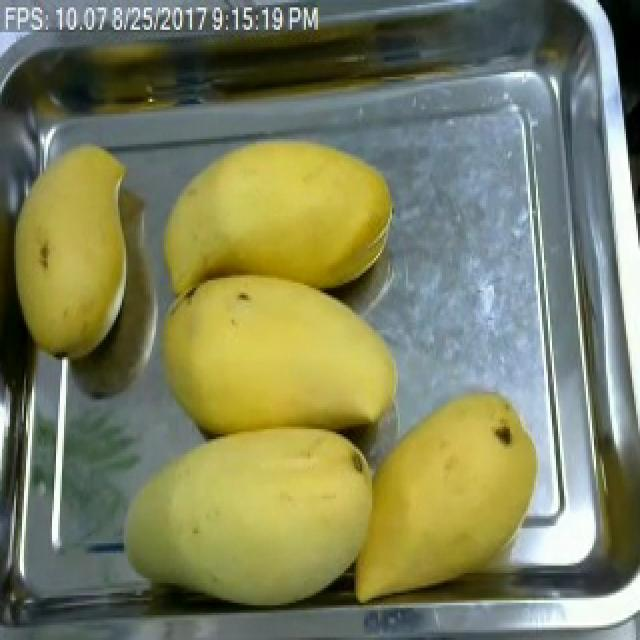fruit: (316, 372, 558, 610), (112, 414, 384, 615), (148, 260, 412, 447), (148, 126, 408, 302), (0, 137, 142, 372)
